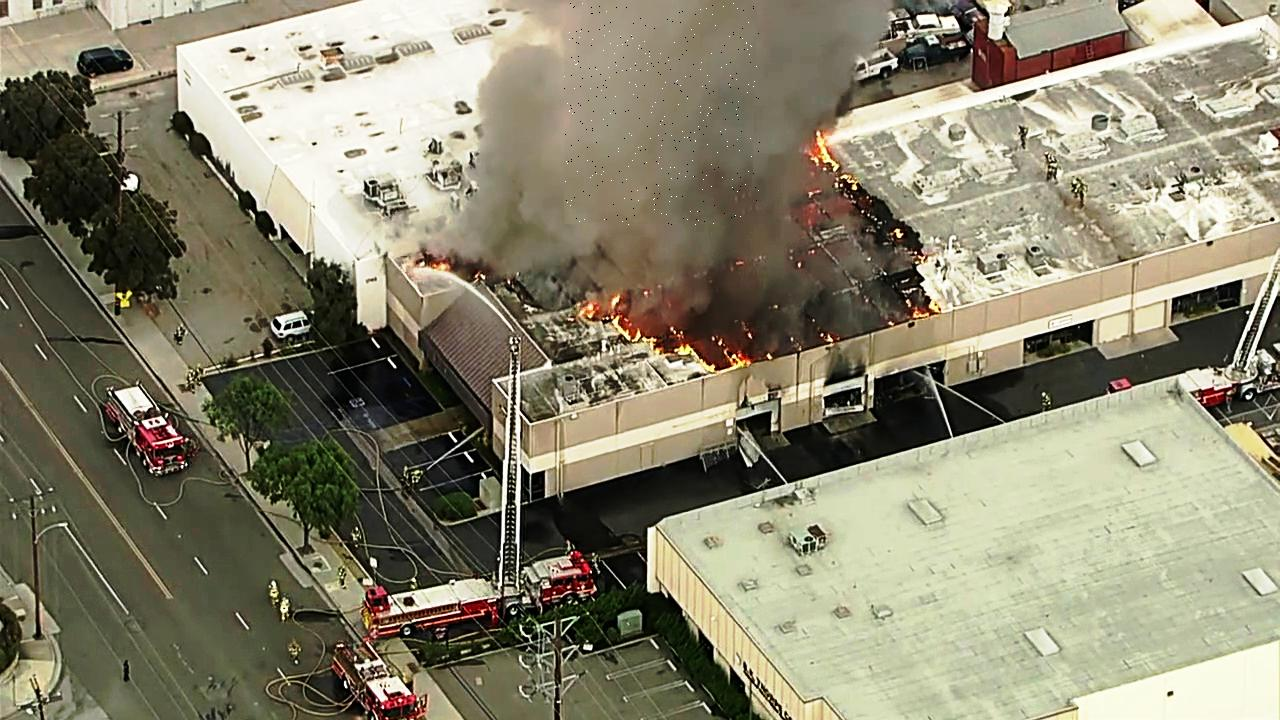smoke: (565, 3, 761, 225)
